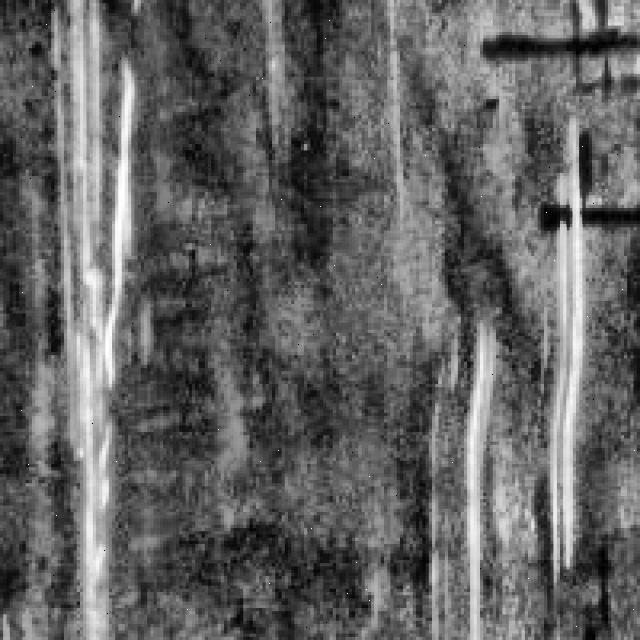Inclusion: (61, 3, 148, 630), (540, 160, 598, 579), (436, 316, 508, 630)
Patches: (477, 0, 640, 106), (534, 176, 640, 240)
